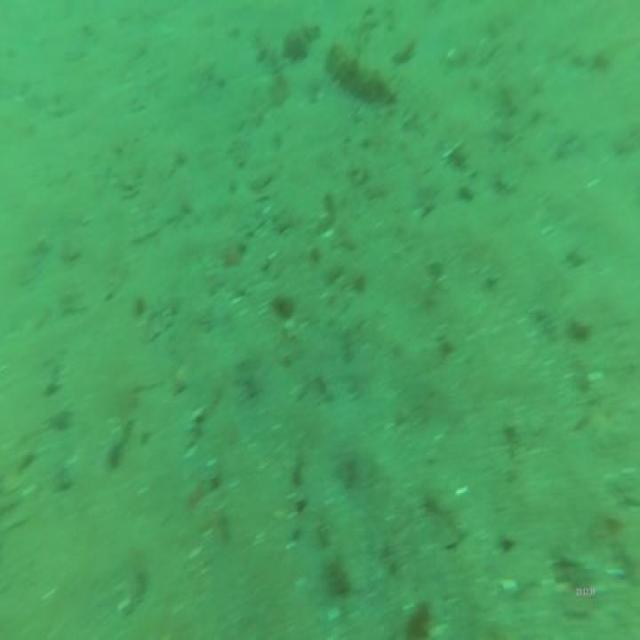holothurian: (324, 33, 396, 112)
